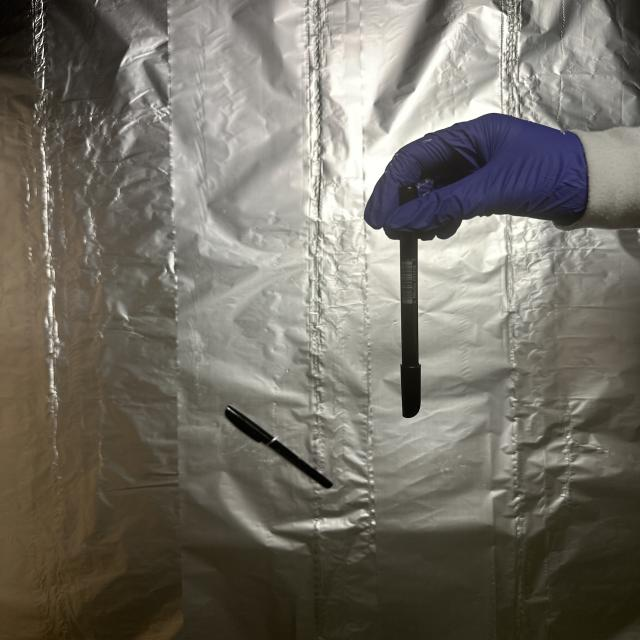gloves_contaminated: (365, 114, 588, 240)
